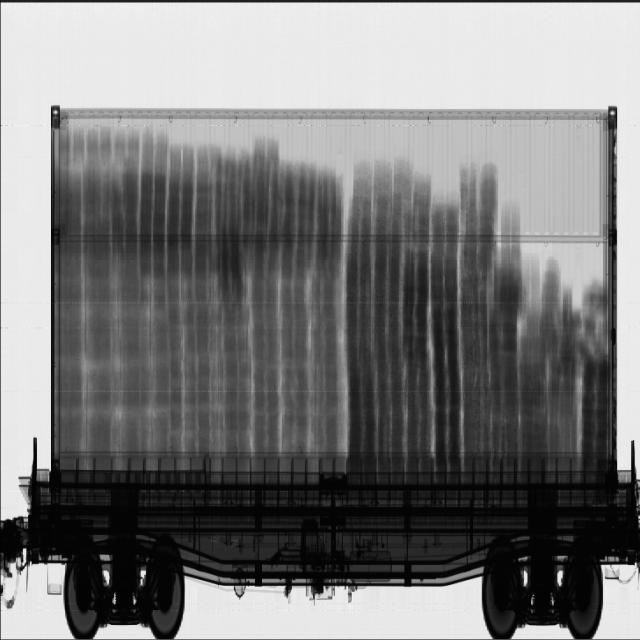textiles: (58, 123, 609, 452)
